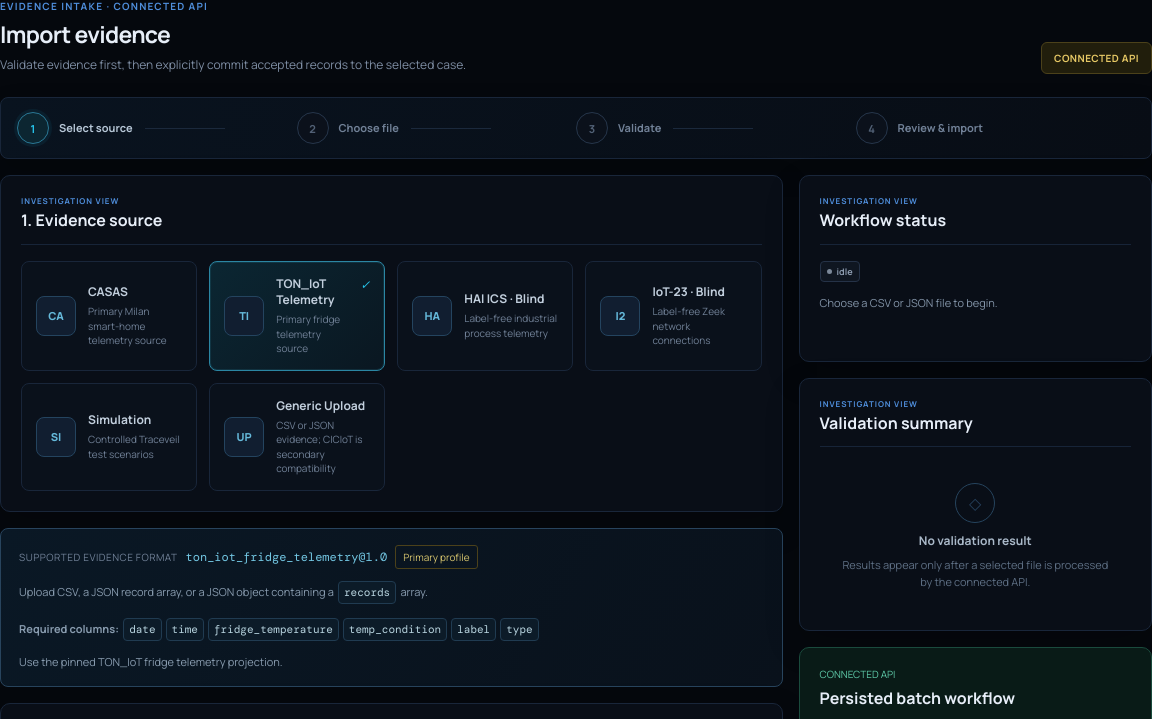
Test case: connected ImportEvidencePage case selection › documents the selected profile and offers the synthetic example
The image size is (1152, 719).
expect the text "ton_iot_fridge_telemetry@1.0" is shown: met, box [186, 549, 387, 565]
Click the button "SI Simulation Controlled Traceveil test scenarios": (109, 437) [21, 383, 197, 491]
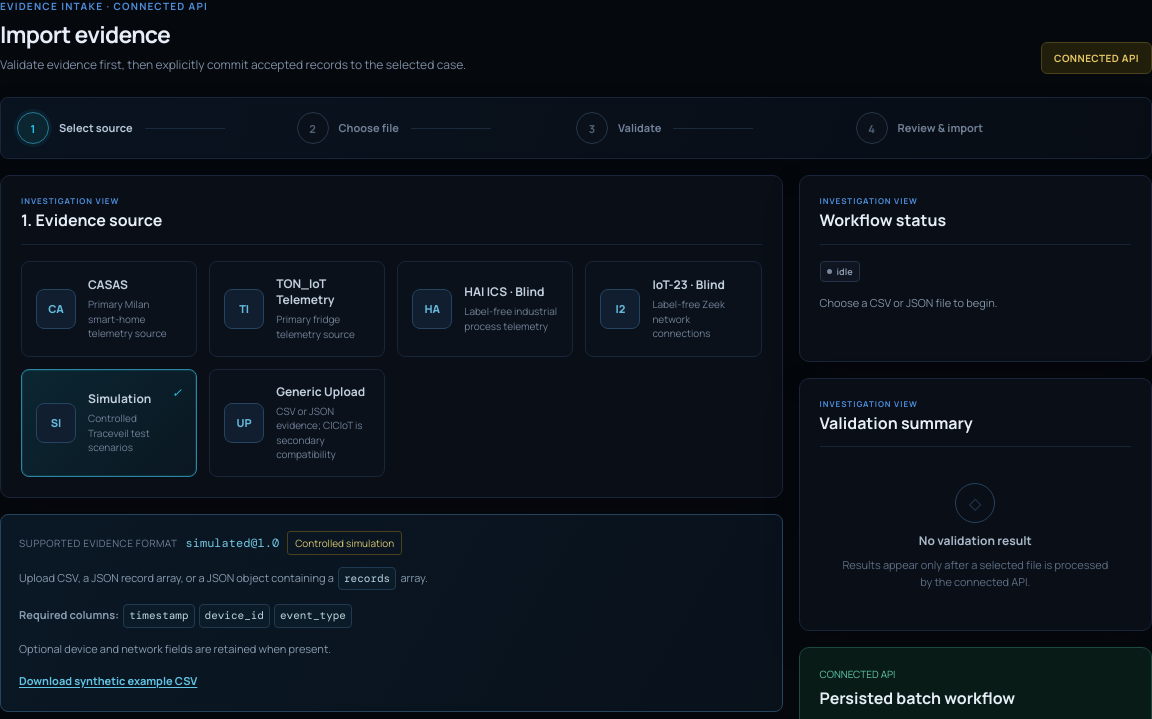
expect the text "simulated@1.0" is shown: met, box [186, 535, 279, 552]
